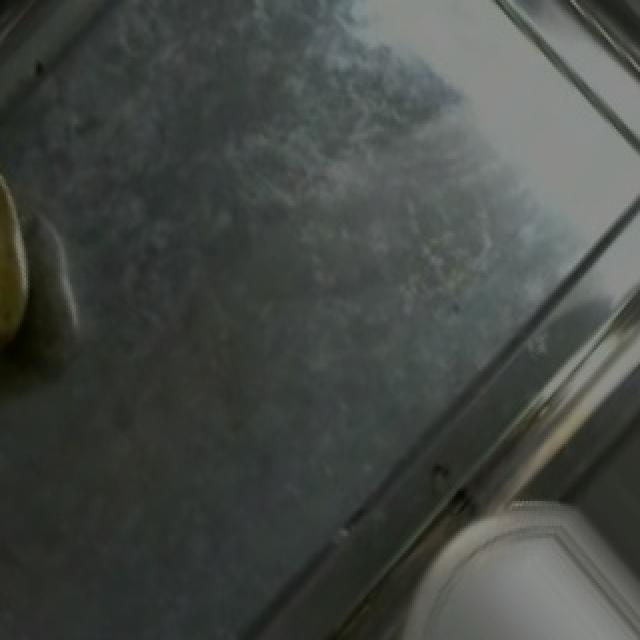fruit: (414, 503, 638, 640)
